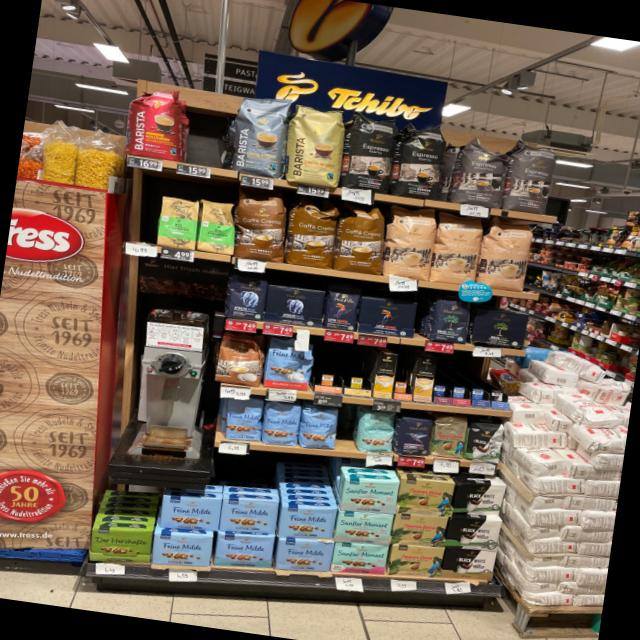AB Bohne: (226, 273, 268, 324)
AB Gemahlen: (262, 284, 327, 329)
Athiopien Gemahlen: (156, 194, 202, 252), (196, 200, 240, 256)
BM Bohne: (430, 292, 474, 346)
BM Gemahlen: (470, 305, 531, 352)
BW Bohne: (466, 419, 506, 465)
BW Gemahlen: (442, 547, 498, 581), (444, 517, 503, 549), (451, 483, 507, 515)
Barista CB: (282, 102, 349, 189)
Barista CC: (228, 94, 292, 178)
Barista Kolumbien: (120, 85, 190, 163)
C Fino Bohne: (394, 414, 434, 458)
CC Mild: (476, 216, 536, 294), (382, 204, 439, 283), (430, 211, 487, 286)
CC Vollmundig: (213, 328, 268, 388)
CC Vollmundig 36 Pads: (232, 191, 292, 263), (332, 204, 391, 275), (284, 197, 340, 270)
Colombia BB Bohne: (430, 415, 470, 460)
Colombia BB Gemahlen: (397, 477, 456, 517), (390, 513, 449, 548), (387, 545, 446, 578)
Espresso Aromatisch: (452, 133, 512, 210), (505, 138, 560, 216)
Espresso Kraftig: (340, 112, 402, 194), (392, 120, 451, 202)
FM 36 Pads: (263, 337, 317, 393)
FM Bohne: (221, 395, 267, 444), (297, 404, 342, 452), (260, 401, 302, 448)
FM Gemahlen: (151, 527, 216, 571), (160, 494, 223, 532), (212, 533, 275, 569), (219, 498, 280, 535), (278, 504, 339, 540), (274, 537, 335, 573)
Herzhatfe Mundig: (86, 522, 154, 570)
LG Bohne: (322, 280, 364, 332)
LG Gemahlen: (356, 295, 419, 340)
SM Bohne: (356, 409, 398, 456)
SM Gemahlen: (340, 473, 401, 518), (330, 539, 390, 579), (333, 510, 396, 546)
Simo CCMild bigpack: (373, 353, 398, 400)
Simo Decaff: (412, 354, 438, 404)
